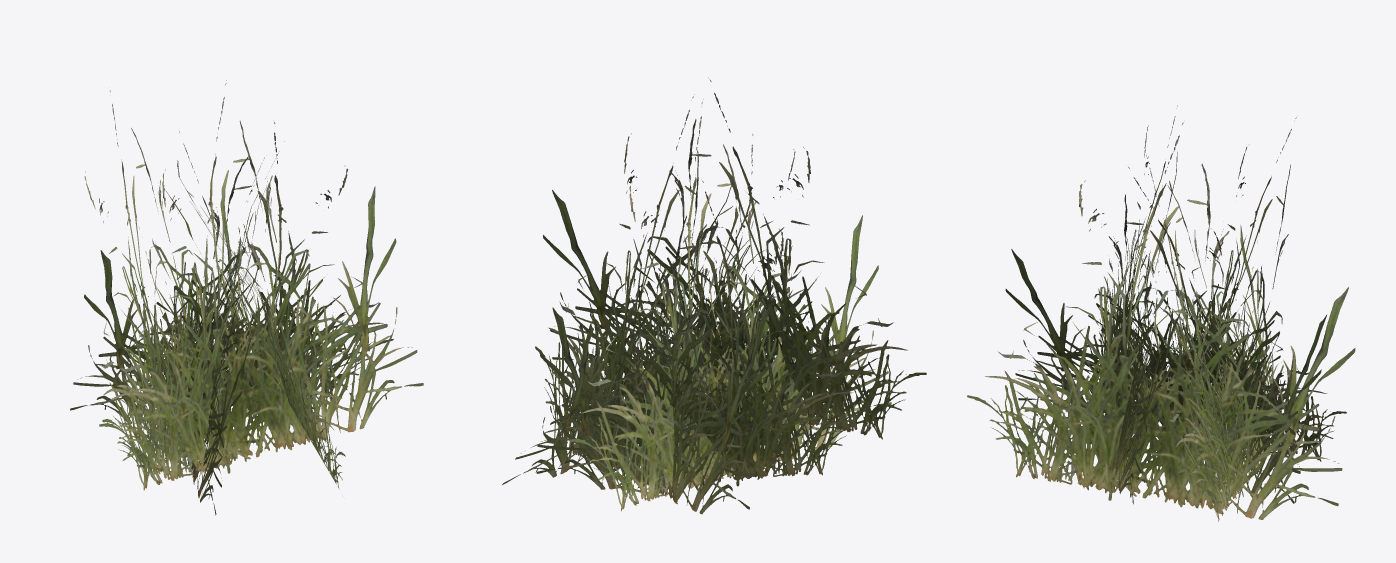
File: grass_patch_geometry2.fbx
3 renders of one model, left to right at view 1: azimuth 30°, elevation 25°; view 2: azimuth 150°, elevation 25°; view 3: azimuth 270°, elevation 25°, orthographic. The views are drawn at different scales.
Visible parts, largest first — view 1: Plane; view 2: Plane; view 3: Plane.
Part boxes in pixels (left/top/right/bottom): Plane: left=70, top=80, right=423, bottom=515; Plane: left=502, top=77, right=926, bottom=514; Plane: left=967, top=105, right=1355, bottom=521.
Bounding box in the file's own units: 97.16 × 101 × 107.
Materials: 1 (1 with a texture image).
